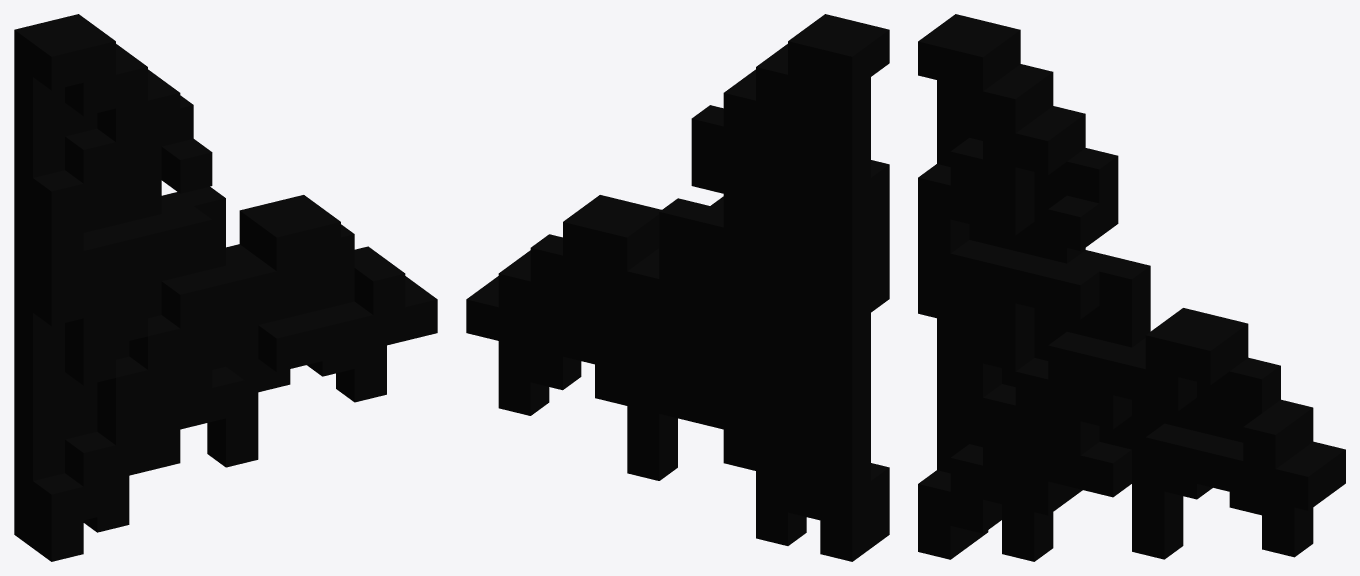
The model's file is Cursor_Decay_02.002.fbx.
3 views of the same model, side by side, from view 1: azimuth 30°, elevation 25°; view 2: azimuth 150°, elevation 25°; view 3: azimuth 330°, elevation 25° (orthographic).
Visible parts, largest first — view 1: Cursor_Decay_02.002; view 2: Cursor_Decay_02.002; view 3: Cursor_Decay_02.002.
Boxes of the visible parts, left/top/right/bottom form: Cursor_Decay_02.002: left=14, top=14, right=437, bottom=561; Cursor_Decay_02.002: left=466, top=14, right=889, bottom=561; Cursor_Decay_02.002: left=918, top=14, right=1345, bottom=561.
Size of the model in its own units: 1.2 by 1.5 by 0.2.
